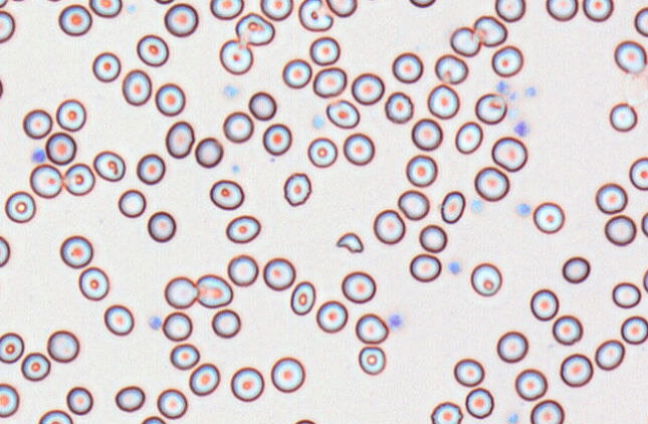PLT: (386, 311, 406, 333), (147, 314, 164, 332), (513, 120, 530, 137), (30, 147, 46, 164), (447, 260, 463, 277), (494, 79, 510, 95), (516, 202, 533, 217), (312, 114, 328, 129), (505, 410, 521, 424), (525, 84, 538, 99)
RBC: (195, 273, 233, 308), (491, 136, 527, 172), (270, 356, 305, 393), (235, 12, 274, 45), (474, 166, 509, 201), (163, 2, 198, 37), (219, 38, 253, 74), (230, 366, 264, 402), (559, 353, 593, 387), (59, 234, 93, 268), (341, 270, 376, 303), (613, 39, 646, 74), (29, 163, 62, 198), (427, 83, 459, 119), (373, 208, 405, 244), (121, 68, 152, 105), (164, 276, 198, 309), (315, 299, 348, 333), (165, 120, 194, 158), (46, 329, 79, 362), (351, 72, 384, 105), (262, 257, 295, 290), (188, 362, 220, 396), (470, 262, 502, 296), (63, 162, 95, 196), (312, 66, 346, 98), (58, 4, 92, 36), (298, 0, 333, 31), (209, 179, 244, 210), (514, 368, 547, 400), (222, 110, 254, 143), (496, 330, 528, 363), (405, 154, 437, 187), (474, 92, 507, 124), (136, 34, 169, 66), (45, 131, 76, 165), (411, 117, 442, 151), (434, 53, 468, 84), (78, 266, 109, 300), (473, 15, 507, 46), (154, 82, 185, 116), (604, 214, 636, 246), (391, 51, 423, 83), (595, 182, 627, 214), (491, 45, 523, 77), (532, 201, 564, 233), (227, 253, 258, 286), (355, 313, 388, 344), (343, 132, 374, 165), (4, 190, 35, 223), (55, 98, 86, 131), (225, 214, 260, 243), (397, 189, 429, 220), (594, 338, 625, 370), (93, 150, 125, 181), (262, 122, 292, 155), (325, 99, 359, 128), (454, 120, 483, 154), (156, 388, 187, 419), (103, 304, 134, 335), (449, 26, 481, 56), (307, 136, 337, 168), (283, 172, 311, 206), (552, 314, 582, 345), (22, 108, 52, 139), (194, 136, 223, 168), (465, 387, 494, 419), (409, 253, 441, 282), (147, 210, 176, 242), (384, 91, 413, 123), (289, 280, 315, 315), (20, 351, 50, 381), (211, 308, 241, 338), (162, 311, 192, 341), (282, 58, 312, 88), (453, 357, 484, 386), (92, 51, 121, 82), (309, 36, 340, 65), (136, 153, 165, 184), (530, 288, 558, 320), (439, 190, 465, 223), (117, 188, 146, 217), (169, 342, 199, 370), (609, 102, 637, 132), (114, 385, 145, 412), (530, 399, 564, 423), (248, 91, 276, 120), (620, 315, 648, 344), (418, 224, 447, 252), (561, 255, 590, 283), (611, 281, 641, 308), (358, 345, 385, 375), (66, 386, 93, 415), (0, 331, 24, 363), (430, 401, 462, 423), (545, 0, 578, 21), (494, 0, 525, 22), (209, 0, 243, 20), (0, 382, 19, 417), (260, 0, 293, 20), (582, 0, 613, 21), (629, 156, 648, 190), (89, 0, 122, 17), (326, 0, 357, 17), (0, 10, 15, 43), (38, 409, 72, 423), (634, 6, 647, 36), (0, 235, 10, 267), (408, 0, 436, 8), (140, 415, 166, 423), (641, 211, 648, 237), (642, 266, 648, 293), (292, 418, 317, 424), (153, 0, 174, 4), (0, 76, 3, 100), (0, 0, 8, 8), (43, 0, 64, 2), (359, 0, 385, 1), (11, 0, 28, 1)
Schistocyte: (335, 229, 367, 255)
